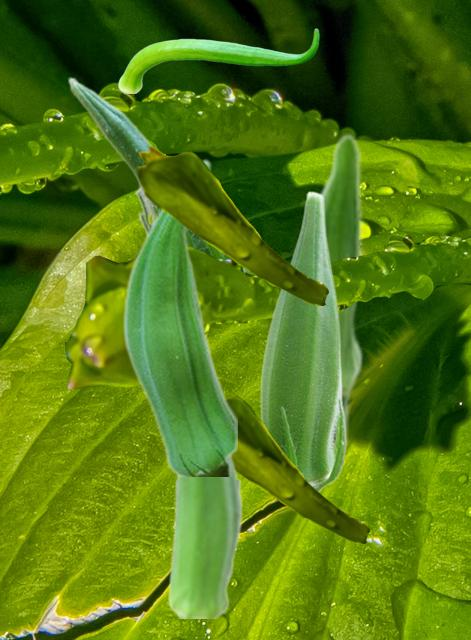okra: (122, 158, 236, 475), (67, 76, 250, 273), (258, 190, 346, 491), (290, 132, 364, 447), (118, 28, 318, 92), (167, 458, 242, 617)
